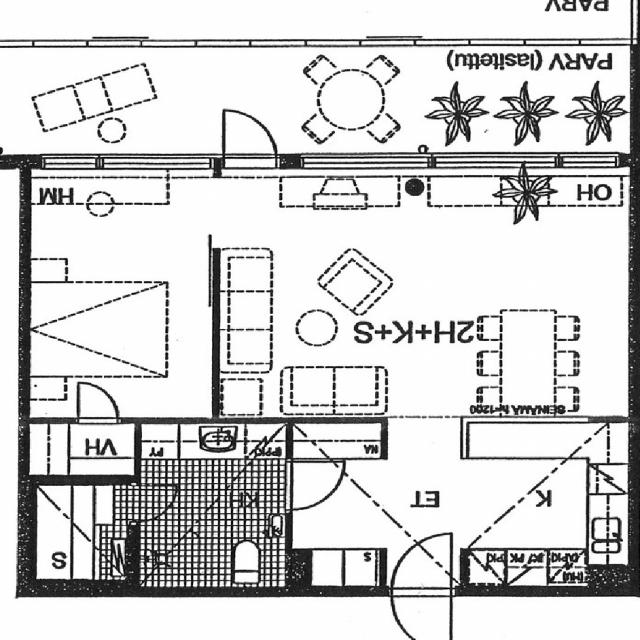door: (393, 533, 452, 596), (393, 585, 452, 640), (224, 106, 276, 168), (287, 462, 346, 509), (77, 381, 119, 423), (134, 485, 180, 521)
